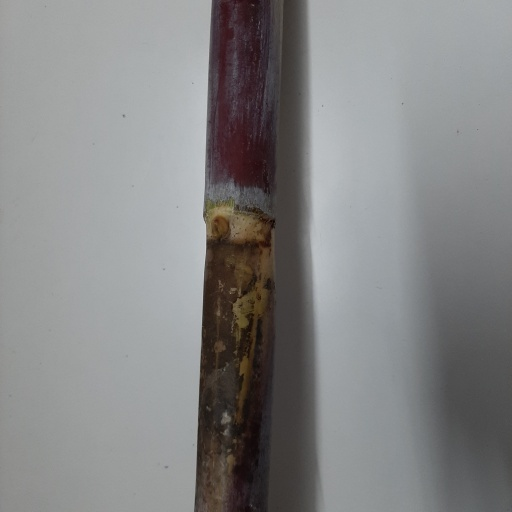Bud: (210, 215, 230, 241)
